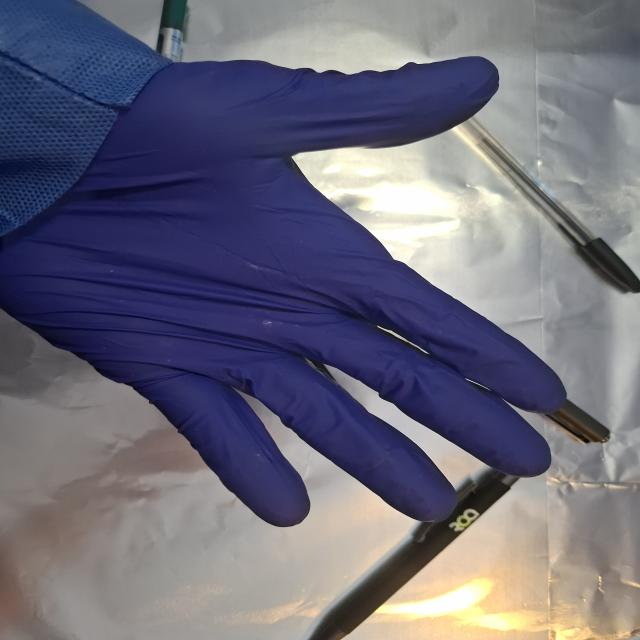glove_on: (2, 54, 569, 526)
